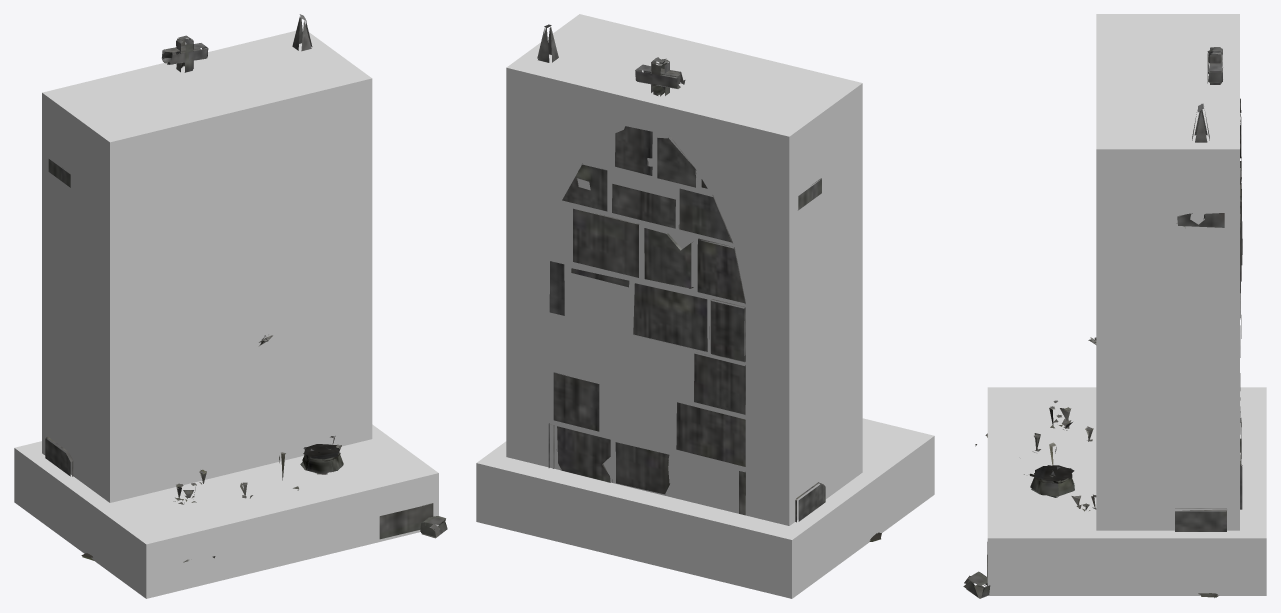
Rendered from shrine_basic_lite.glb.
3 views of the same model, side by side, from view 1: azimuth 30°, elevation 25°; view 2: azimuth 150°, elevation 25°; view 3: azimuth 270°, elevation 25° (orthographic). The views are drawn at different scales.
Parts seen in each view (by area): view 1: col_shrine_niche, col_shrine_plinth, shrine_body; view 2: col_shrine_niche, shrine_body, col_shrine_plinth; view 3: col_shrine_niche, col_shrine_plinth, shrine_body.
Part boxes in pixels (box(x1,y1,x2,y2)): col_shrine_niche: box(42, 29, 372, 502); col_shrine_plinth: box(14, 424, 438, 598); shrine_body: box(45, 14, 447, 562); col_shrine_niche: box(506, 14, 862, 525); shrine_body: box(537, 24, 881, 541); col_shrine_plinth: box(476, 418, 934, 598); col_shrine_niche: box(1096, 14, 1239, 530); col_shrine_plinth: box(987, 387, 1266, 595); shrine_body: box(963, 47, 1242, 598).
Size of the model in its own units: 1.83 by 2.56 by 1.48.
Materials: 2 (2 with a texture image).
